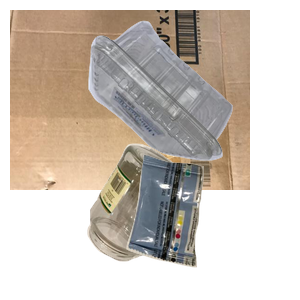cardboard: (10, 10, 250, 190)
glass: (85, 141, 275, 300)
plastic: (86, 18, 300, 171)
trash: (124, 152, 300, 300)
